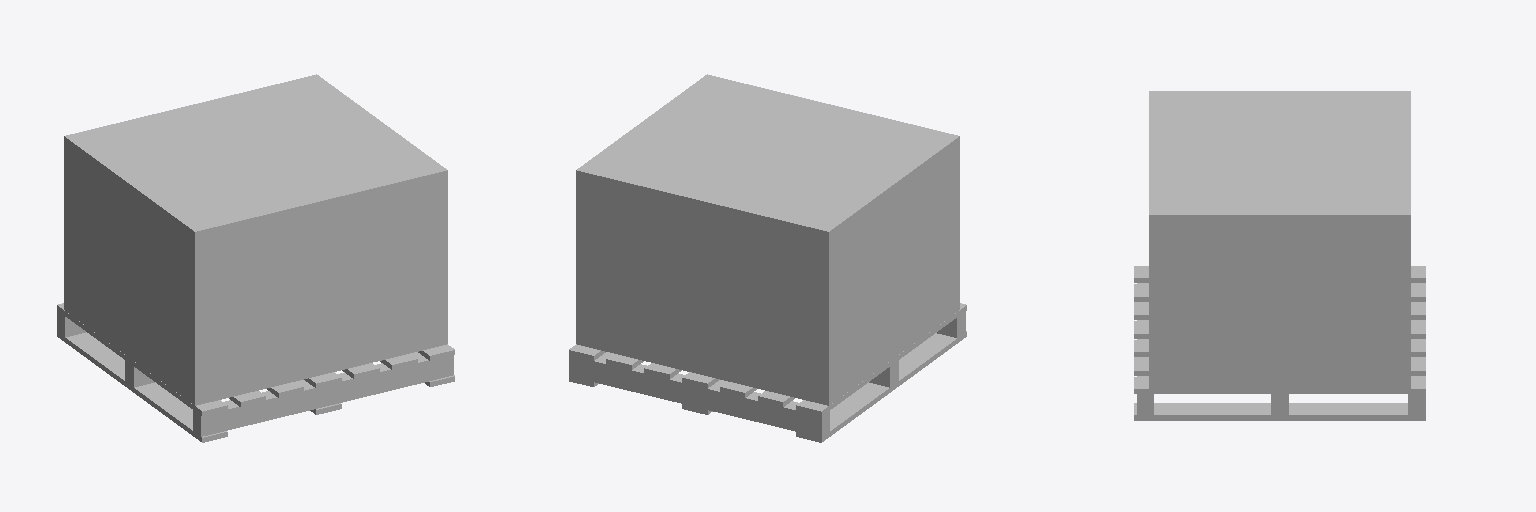
The model's file is crownpallet.obj.
The picture shows the model from 3 angles: view 1: azimuth 30°, elevation 25°; view 2: azimuth 150°, elevation 25°; view 3: azimuth 270°, elevation 25°; orthographic projection.
Visible parts, largest first — view 1: polySurface206; view 2: polySurface206; view 3: polySurface206.
Part boxes in pixels (bbox=[...]): polySurface206: bbox=[57, 74, 454, 442]; polySurface206: bbox=[569, 74, 966, 442]; polySurface206: bbox=[1134, 91, 1425, 420].
Size of the model in its own units: 0.9862 by 0.766 by 0.9846.